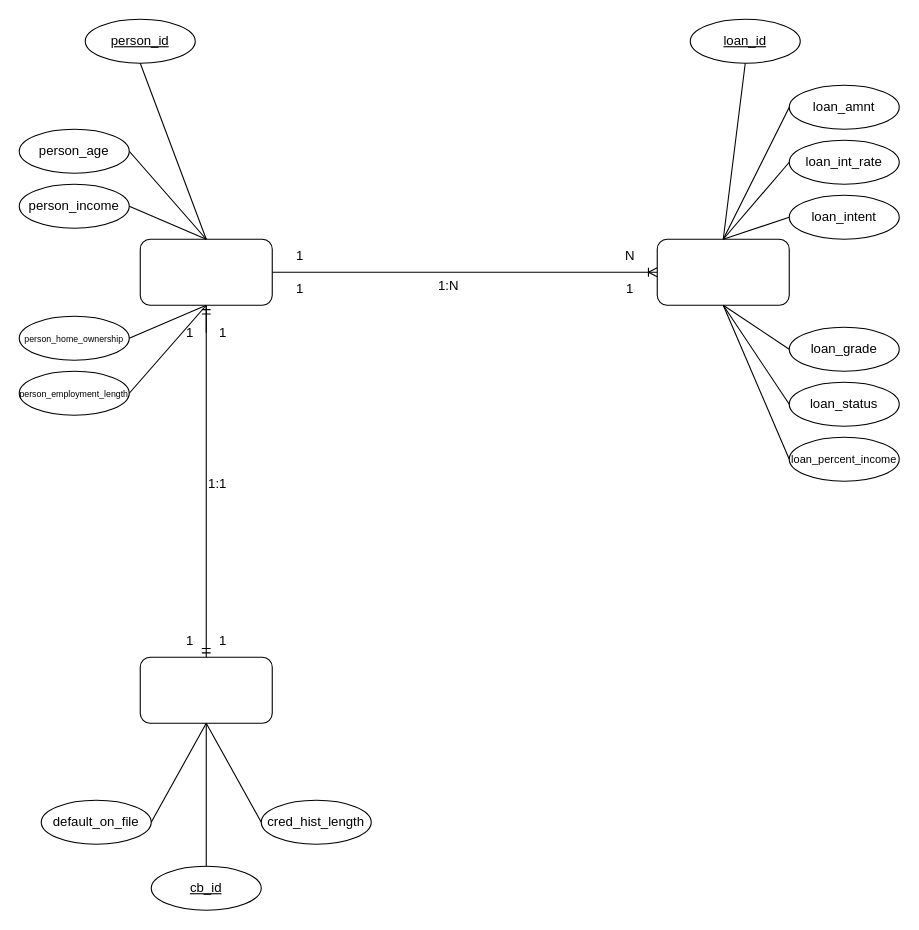
This 919x930 diagram has some shape labels left out. Here are the shapes that lost their labels. From the top down, the box of each, then its label:
(139, 238, 272, 305): customers
(656, 238, 789, 305): loans
(139, 656, 272, 723): credit_bureau
